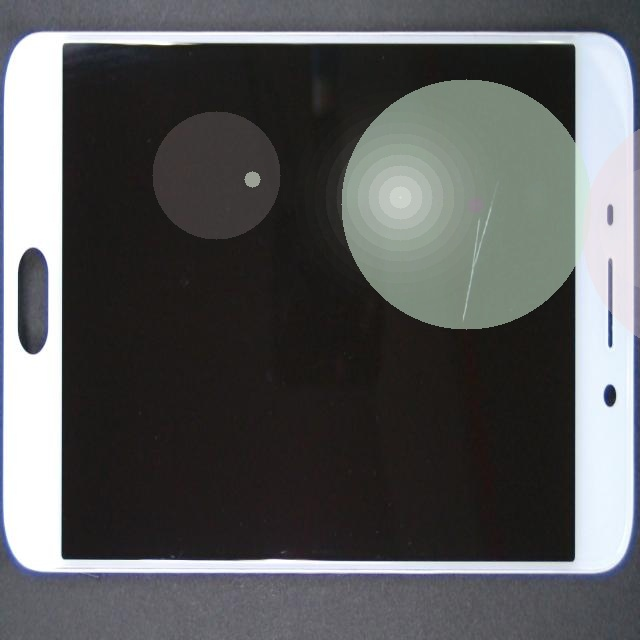scratch: (255, 10, 640, 350)
